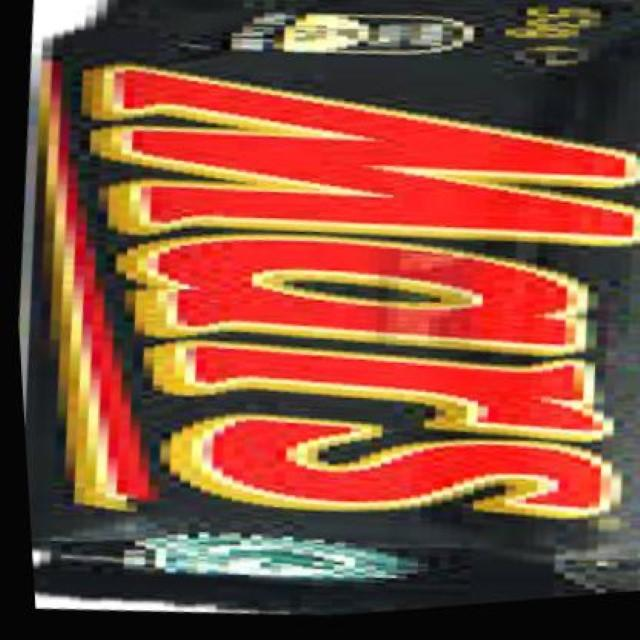mars_chocolate: (93, 63, 640, 638)
